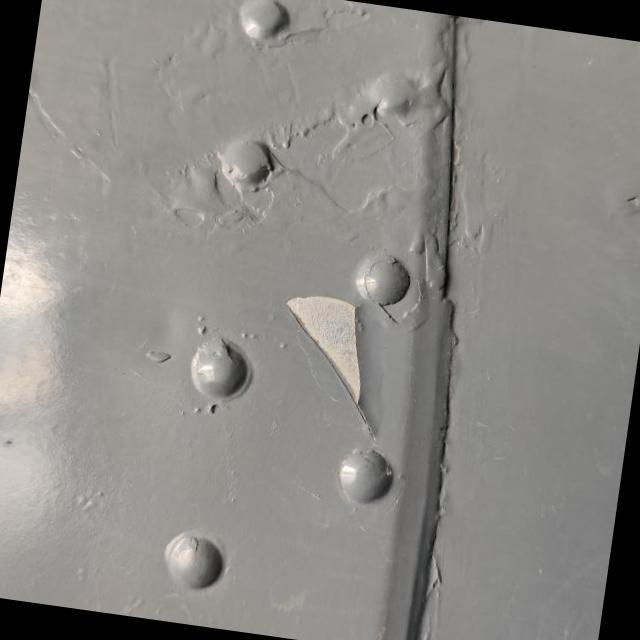Paint-off: (282, 297, 379, 459)
